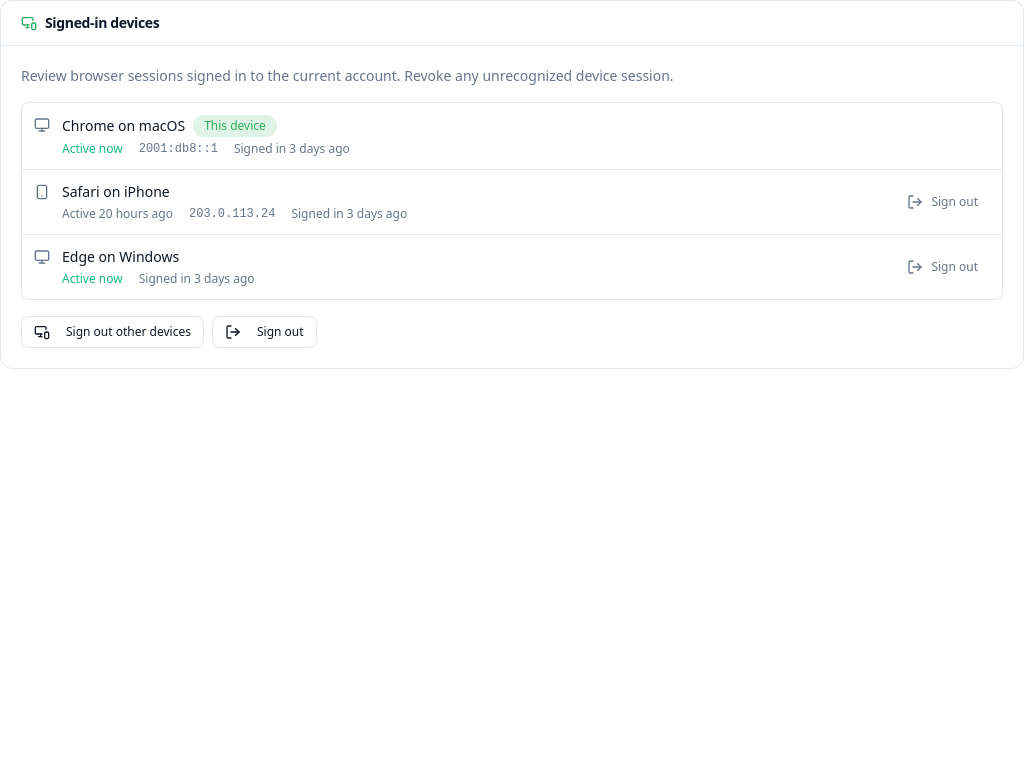
Test: AccountSessionsCard › signs every other device out after a confirmation
Click the button "Sign out other devices" at (112, 332), box top-left (21, 316), bottom-right (204, 348)
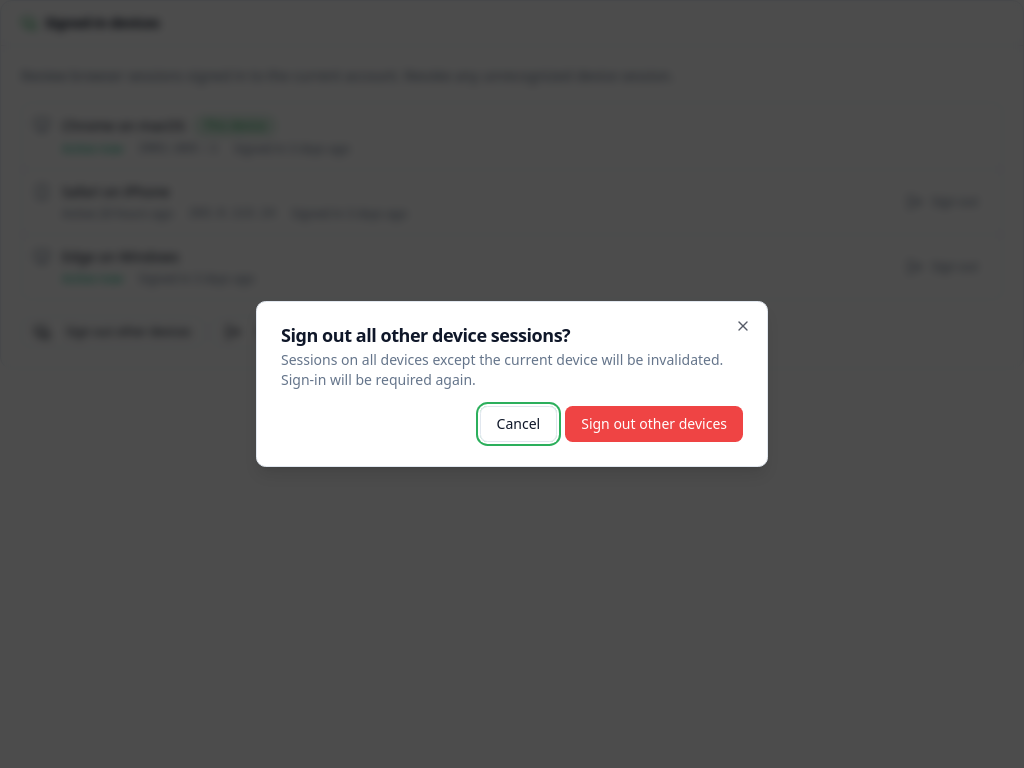
Now the heading "Sign out all other device sessions?" is shown, box top-left (281, 323), bottom-right (570, 347)
Click the button "Sign out other devices" at (654, 424), box top-left (565, 406), bottom-right (743, 442)
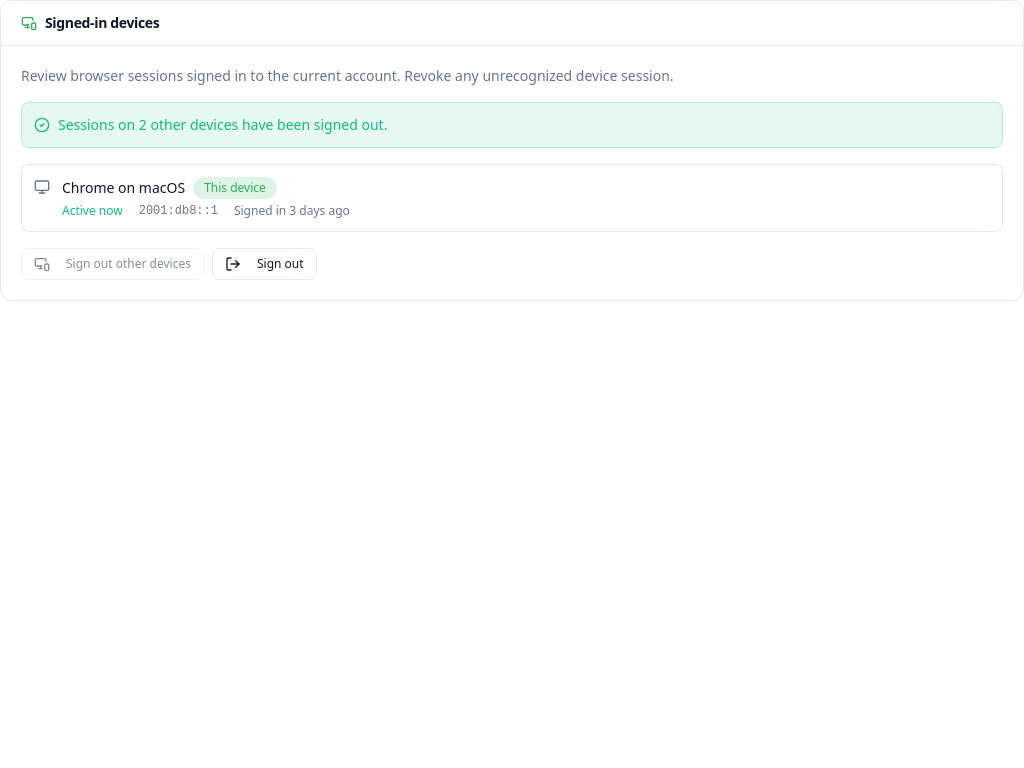
Now the message reads "Sessions on 2 other devices have been signed out.", box top-left (58, 115), bottom-right (387, 134)
Now the dialog is gone
Now the text "Safari on iPhone" is gone
